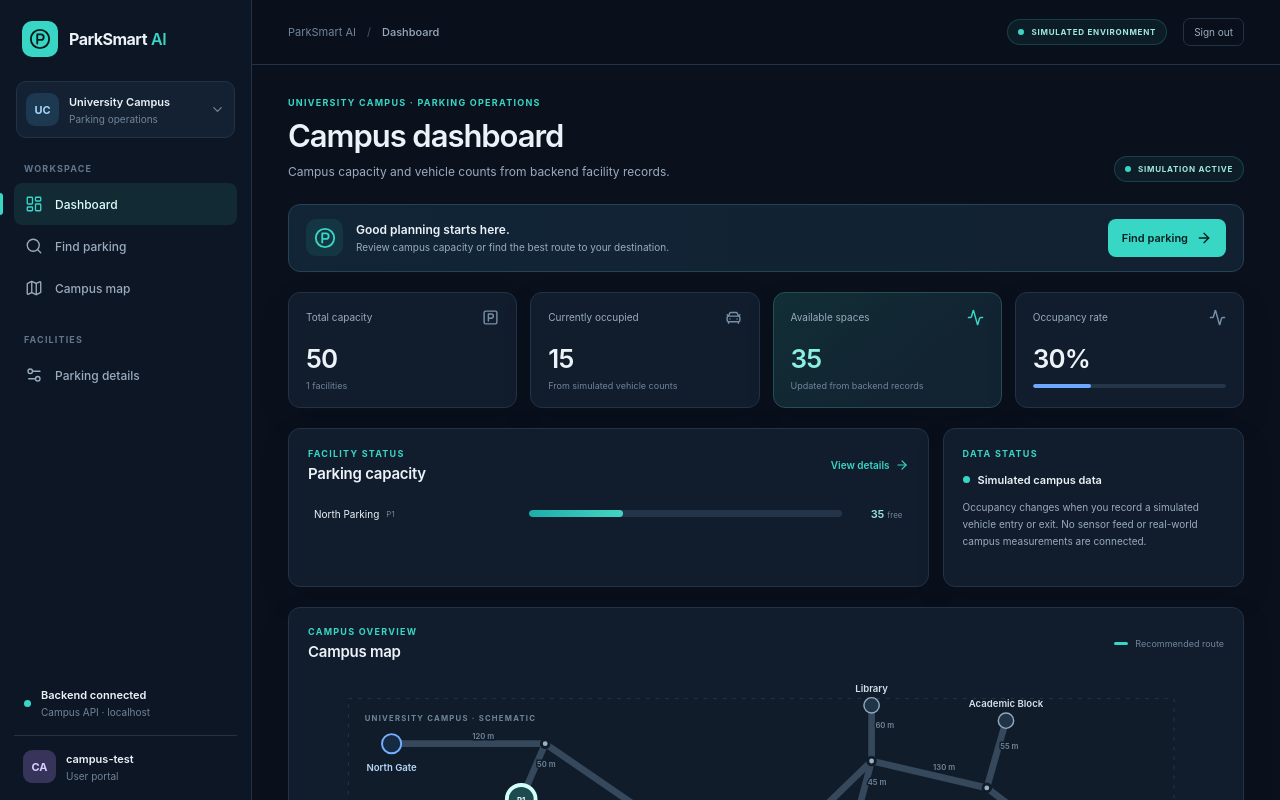
Test: ParkSmart campus dashboard › clears the session and returns to login on logout
Check: the text "Backend connected" is shown, box [41,688,146,702]
Click the button "Sign out" at (1214, 32), box [1183,18,1244,46]
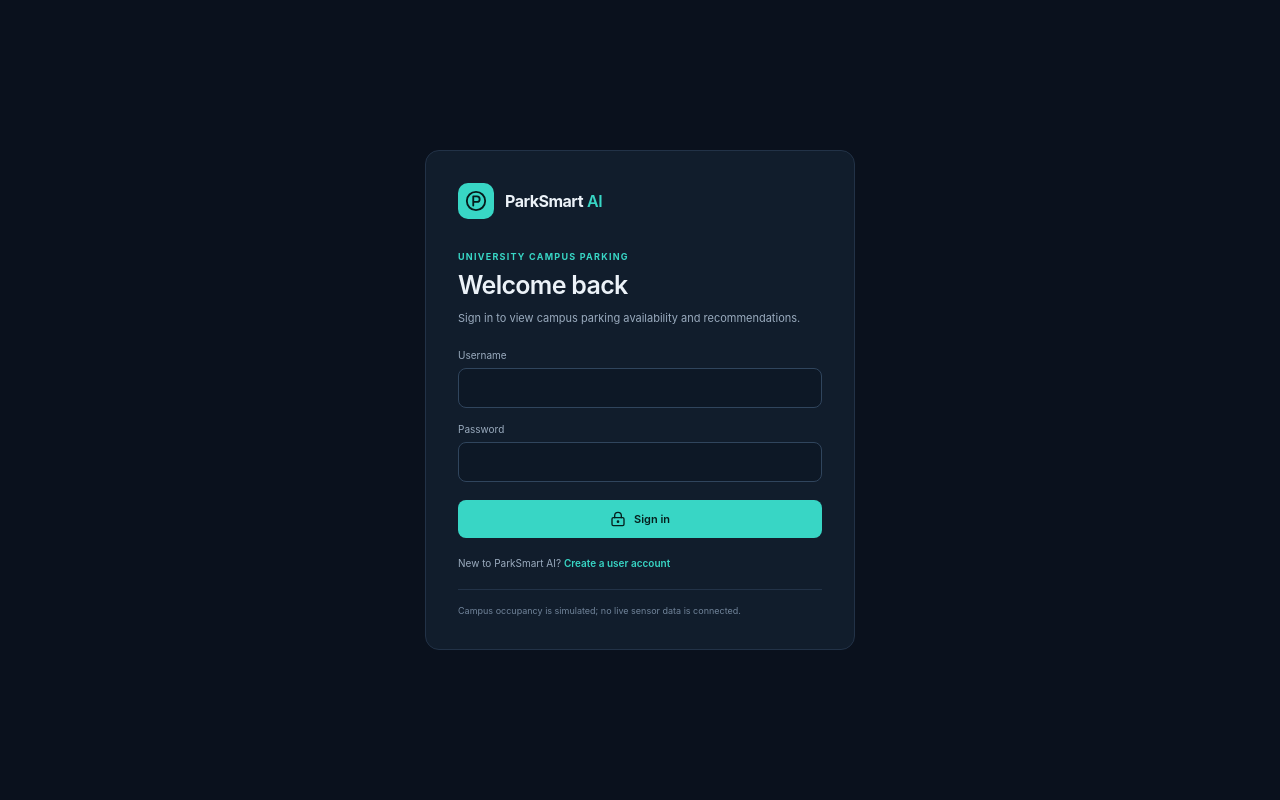
Check: the heading "Welcome back" is shown, box [458,270,628,300]
